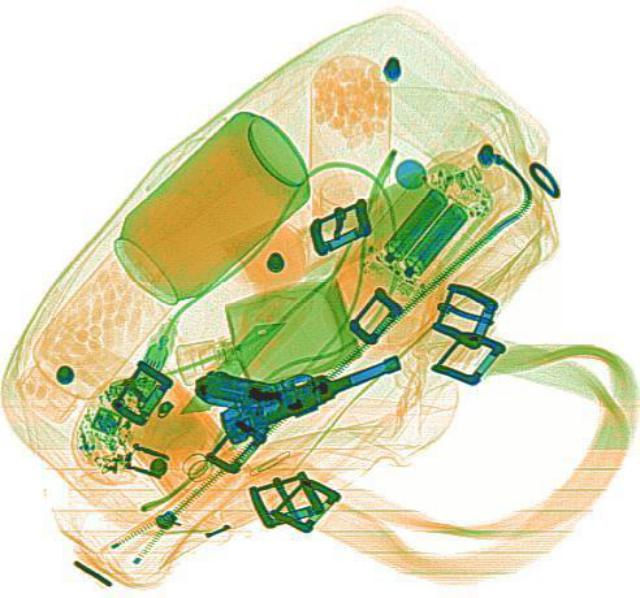Gun: (188, 307, 404, 441)
